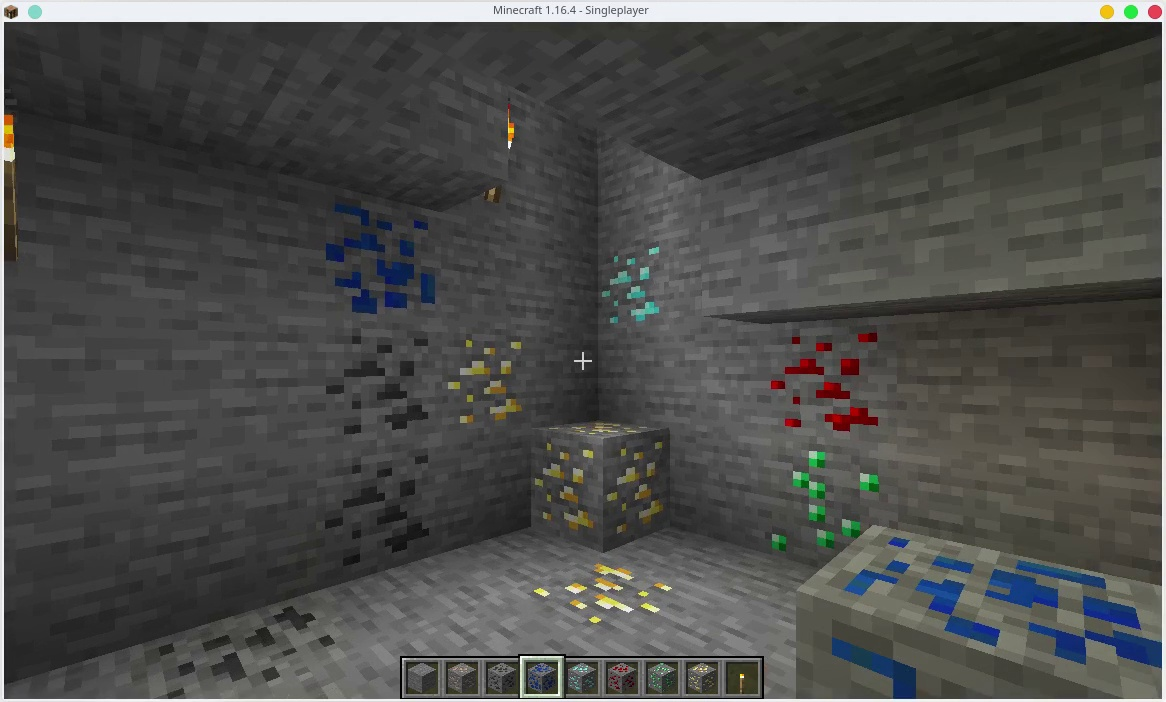gold: (540, 420, 668, 539), (519, 554, 696, 639), (439, 338, 522, 426), (685, 661, 718, 694)
